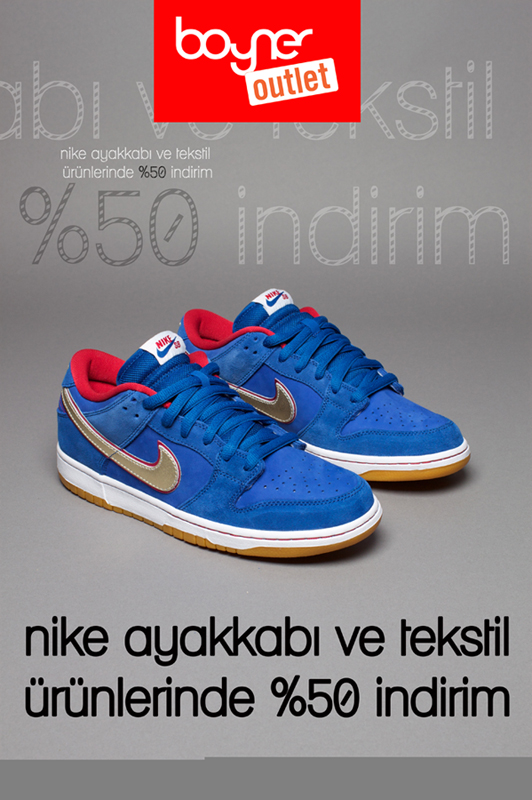nike: (66, 400, 189, 500), (234, 381, 299, 428)
